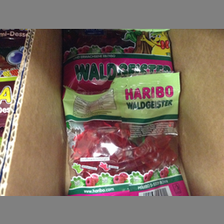candy: (61, 78, 183, 195), (61, 33, 174, 73)
